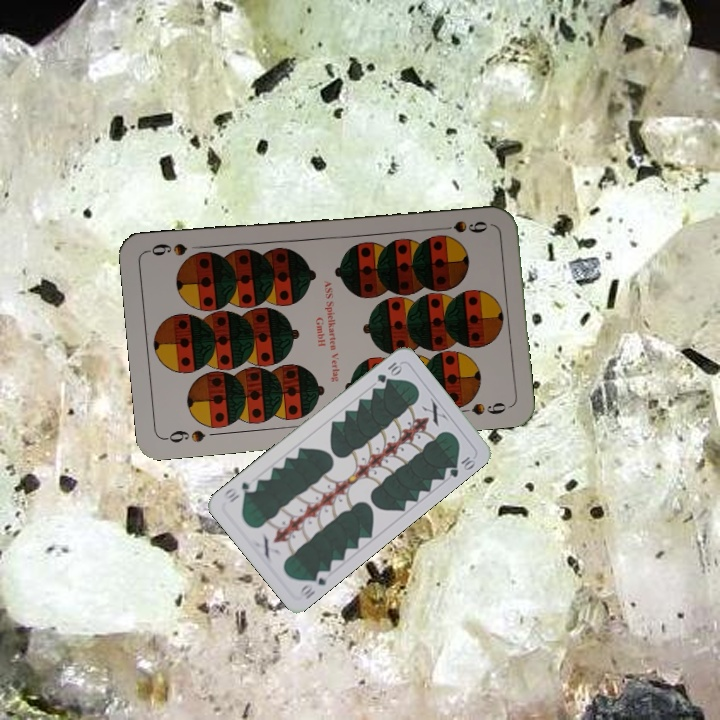G10: (295, 566, 330, 602), (373, 358, 404, 386)
S9: (432, 216, 490, 236), (161, 426, 208, 445)
